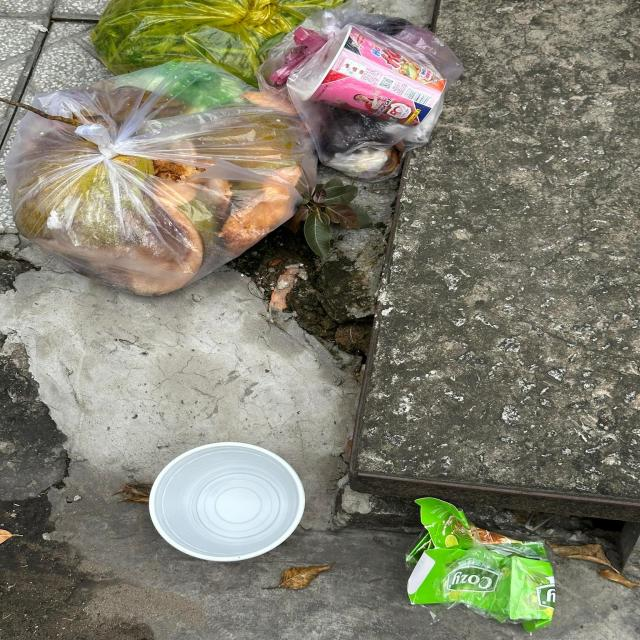cardboard box: (405, 497, 555, 633)
plastic holder: (148, 443, 306, 562)
trash bag: (6, 60, 318, 296), (262, 0, 465, 180), (94, 0, 338, 90)
